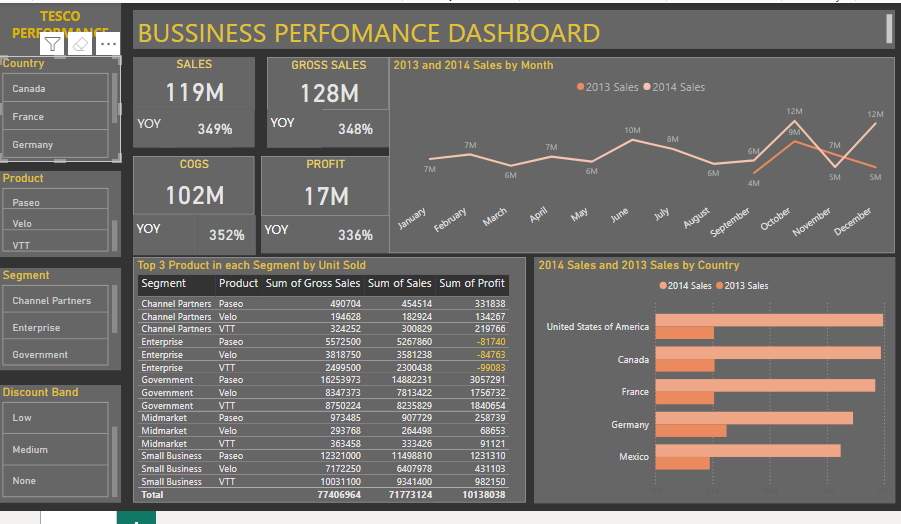

What the dashboard file says about the page in this screenshot:
{"tool":"powerbi","page":{"name":"Page 1","canvas":[1280,720],"ordinal":0},"visuals":[{"type":"textbox","box":[190,10,1080,55],"z":0},{"type":"card","title":"SALES","fields":{"Values":["Sum(financials. Sales)"]},"box":[190,76.7,173.3,75],"z":1000},{"type":"card","title":"GROSS SALES","fields":{"Values":["Sum(financials.Gross Sales)"]},"box":[380,76.7,173.3,75],"z":2000},{"type":"card","title":"COGS","fields":{"Values":["Sum(financials.COGS)"]},"box":[190,216.7,171.7,83.3],"z":3000},{"type":"card","title":"PROFIT","fields":{"Values":["Sum(financials.Profit)"]},"box":[371.7,216.7,181.7,85],"z":4000},{"type":"card","title":"SA","fields":{"Values":["financials. Sales YoY%"]},"box":[228.9,151.4,103.9,52.8],"z":5000},{"type":"textbox","box":[190,151.7,60,53.3],"z":6000},{"type":"card","title":"SA","fields":{"Values":["financials.Gross Sales YoY%"]},"box":[458.3,151.7,95,53.3],"z":7000},{"type":"textbox","box":[380,150,78.3,55],"z":8000},{"type":"card","title":"SA","fields":{"Values":["financials. Sales YoY%"]},"box":[250,151.7,113.3,53.3],"z":9000},{"type":"textbox","box":[371.7,301.7,86.7,53.3],"z":10000},{"type":"card","title":"SA","fields":{"Values":["financials.Profit YoY%"]},"box":[458.3,301.7,95,53.3],"z":11000},{"type":"card","title":"SA","fields":{"Values":["financials.COGS YoY%"]},"box":[281.7,300,81.7,56.7],"z":12000},{"type":"textbox","box":[190,300,91.7,56.7],"z":13000},{"type":"lineChart","title":"2013 and 2014 Sales by Month","fields":{"Category":["financials.Date.Variation.Date Hierarchy.Month"],"Y":["financials.2013 Sales","financials.2014 Sales"]},"box":[553.3,76.7,716.7,278.3],"z":14000},{"type":"tableEx","title":"Top 3 Product in each Segment by Unit Sold","fields":{"Values":["financials.Segment","financials.Product","Sum(financials.Gross Sales)","Sum(financials. Sales)","Sum(financials.Profit)"]},"box":[190,360,556.7,348.3],"z":15000},{"type":"clusteredBarChart","fields":{"Category":["financials.Country"],"Y":["financials.2014 Sales","financials.2013 Sales"]},"box":[757.6,359.5,512.3,349.4],"z":16000},{"type":"textbox","box":[0,0,173.3,96.7],"z":17000},{"type":"advancedSlicerVisual","fields":{"Values":["financials.Country"]},"box":[0,75,173.3,150],"z":18000},{"type":"advancedSlicerVisual","fields":{"Values":["financials.Product"]},"box":[0,238.3,173.3,121.7],"z":19000},{"type":"advancedSlicerVisual","fields":{"Values":["financials.Segment"]},"box":[0,375,173.3,145],"z":20000},{"type":"advancedSlicerVisual","fields":{"Values":["financials.Discount Band"]},"box":[0,541.7,173.3,166.7],"z":21000}]}

Visuals, with their boxes in screenshot pixels (x1, y1, x2, y2):
textbox: 132,5,900,44
"SALES" card: 132,53,257,107
"GROSS SALES" card: 269,53,394,107
"COGS" card: 132,154,256,214
"PROFIT" card: 263,154,394,215
"SA" card: 160,107,235,145
textbox: 132,107,175,145
"SA" card: 325,107,394,145
textbox: 269,106,325,145
"SA" card: 175,107,257,145
textbox: 263,215,325,253
"SA" card: 325,215,394,253
"SA" card: 198,214,257,254
textbox: 132,214,198,254
"2013 and 2014 Sales by Month" lineChart: 394,53,900,253
"Top 3 Product in each Segment by Unit Sold" tableEx: 132,257,533,507
clusteredBarChart - financials.Country x financials.2014 Sales: 541,256,900,508
textbox: 0,0,120,67
advancedSlicerVisual - financials.Country: 0,52,120,160
advancedSlicerVisual - financials.Product: 0,169,120,257
advancedSlicerVisual - financials.Segment: 0,268,120,372
advancedSlicerVisual - financials.Discount Band: 0,388,120,507
